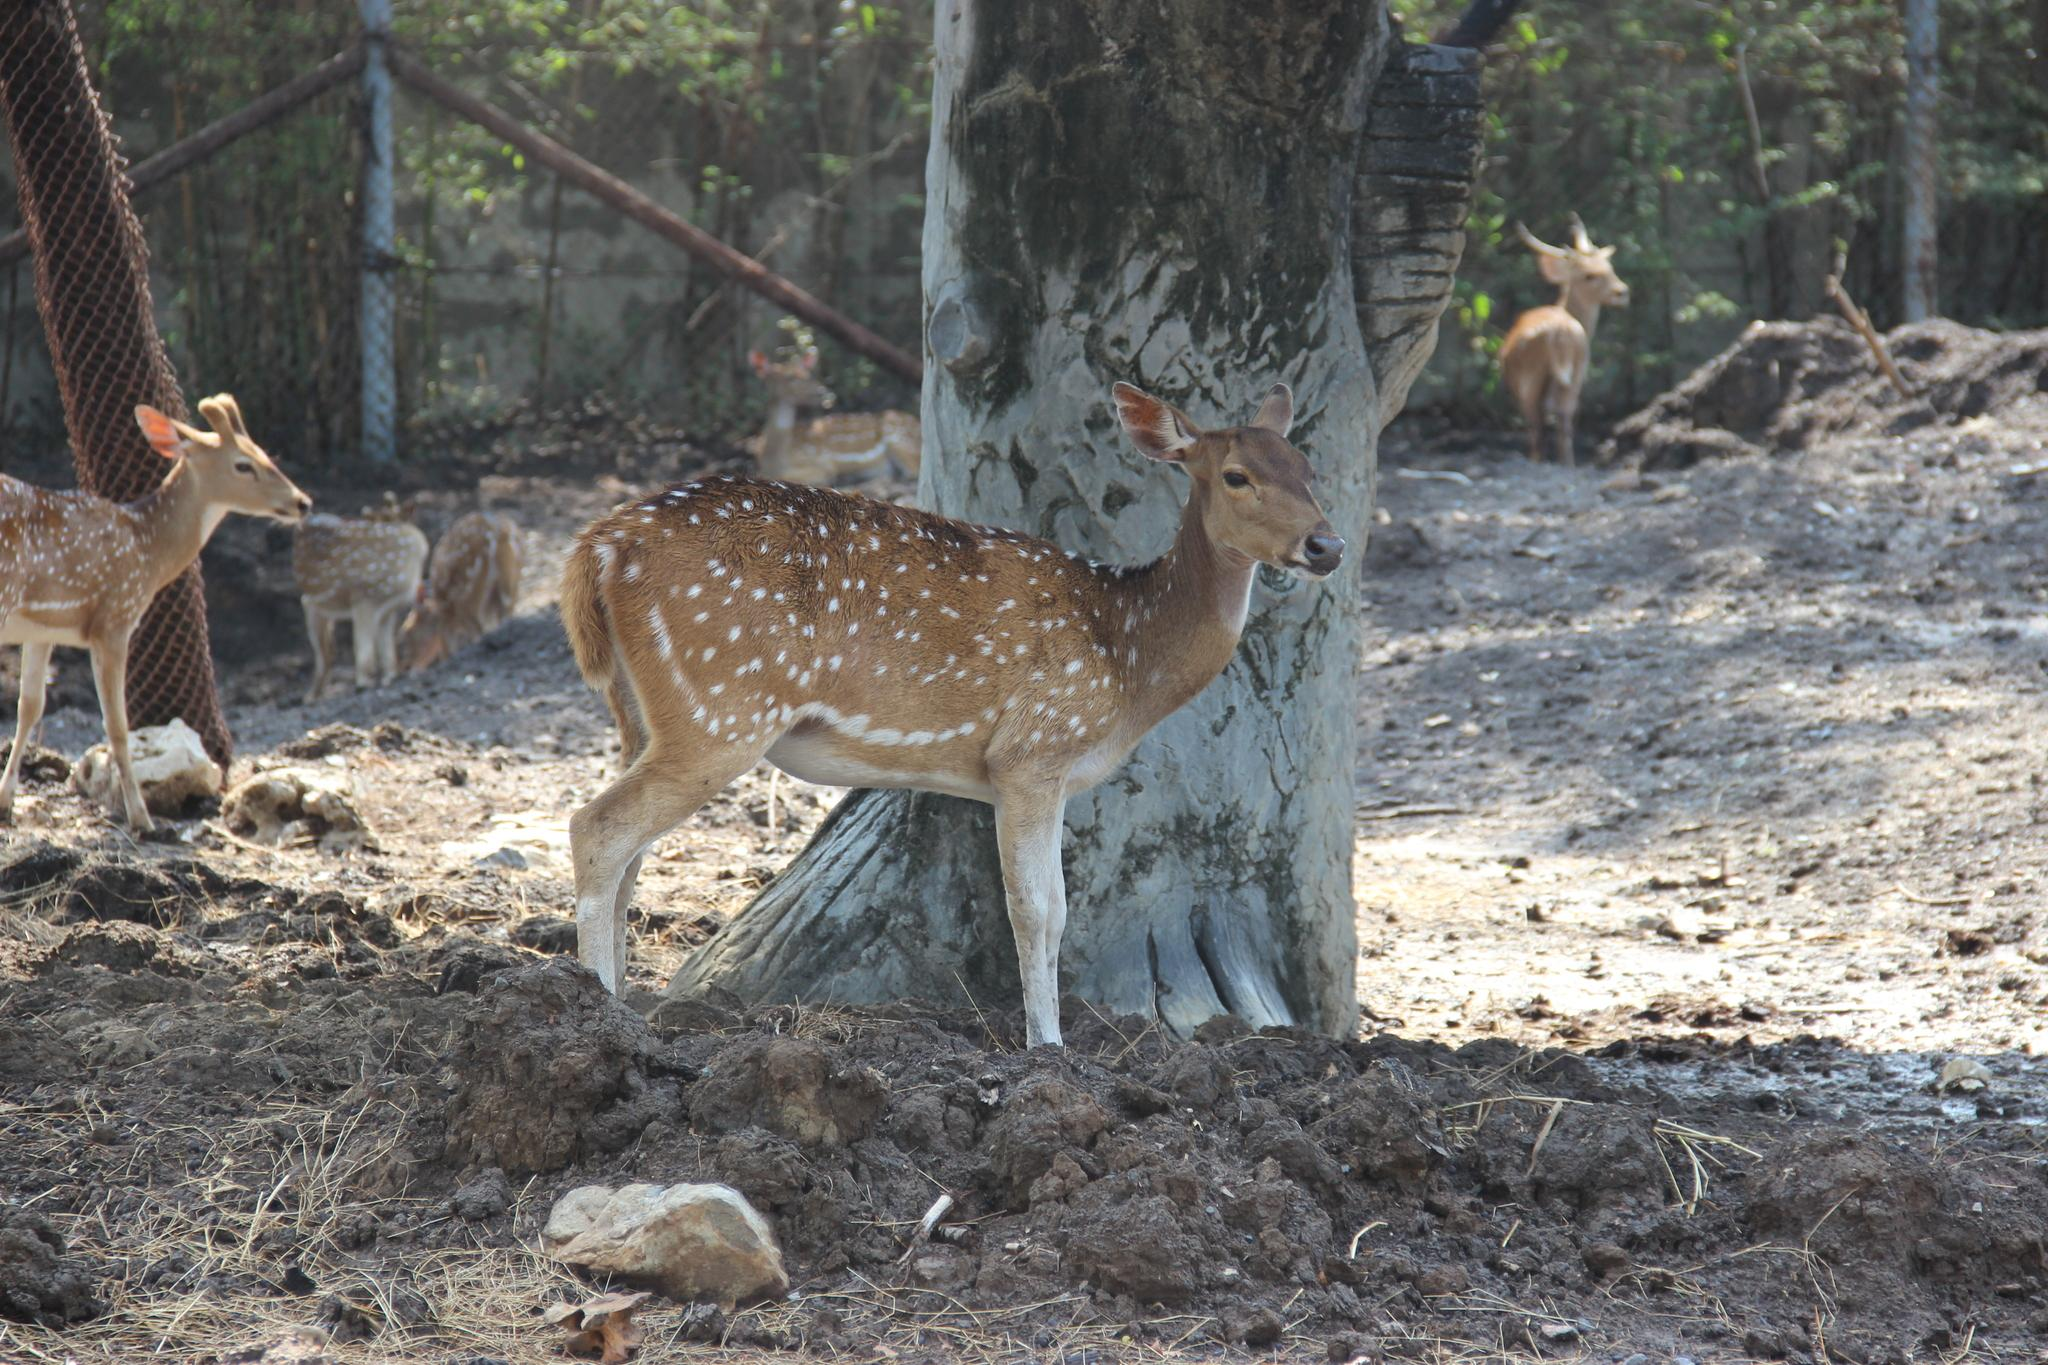Deer: (563, 382, 1341, 1045), (0, 395, 311, 832), (1498, 215, 1628, 466), (292, 494, 426, 702), (751, 347, 920, 486), (399, 512, 522, 672)
